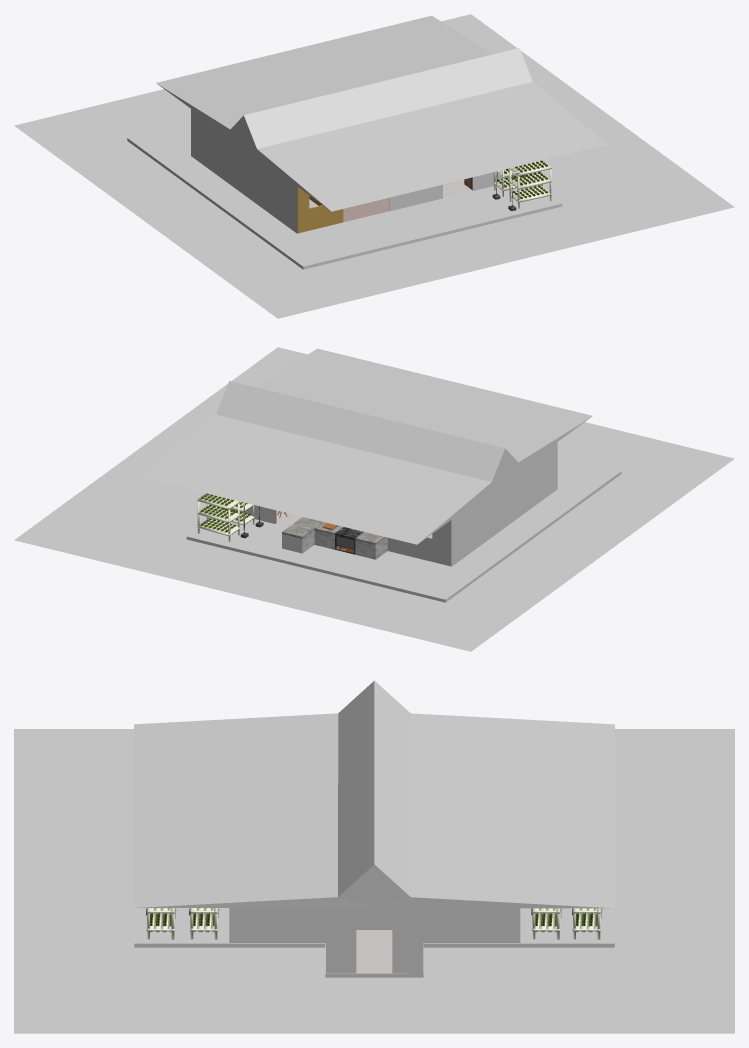
The model's file is Cas4Con.fbx.
The picture shows the model from 3 angles, top to bottom: view 1: azimuth 30°, elevation 25°; view 2: azimuth 150°, elevation 25°; view 3: azimuth 270°, elevation 25°; orthographic projection. The views are drawn at different scales.
Parts seen in each view (by area): view 1: Techo, Suelo exterior, Base casa, ParedExter, Copia.003, Baño, Estudio; view 2: Techo, Suelo exterior, Base casa, ParedExter, Copia.001, Recamara, Cube.081; view 3: Suelo exterior, Techo, ParedExter, Base casa, Floor, Copia, Copia.002, Copia.003, Copia.001, Base entrada.
Part boxes in pixels (x1,y1,x2,y2): Techo: [156, 15, 606, 211]; Suelo exterior: [14, 14, 734, 318]; Base casa: [127, 122, 562, 269]; ParedExter: [191, 109, 517, 233]; Copia.003: [508, 160, 551, 211]; Baño: [297, 187, 343, 233]; Estudio: [343, 198, 388, 222]; Techo: [141, 348, 592, 544]; Suelo exterior: [14, 347, 734, 651]; Base casa: [186, 455, 621, 602]; ParedExter: [231, 442, 557, 566]; Copia.001: [197, 493, 248, 541]; Recamara: [387, 520, 451, 566]; Cube.081: [355, 537, 387, 559]; Suelo exterior: [14, 729, 734, 1033]; Techo: [134, 680, 614, 908]; ParedExter: [229, 908, 520, 973]; Base casa: [134, 908, 614, 947]; Floor: [356, 942, 392, 972]; Copia: [531, 908, 561, 939]; Copia.002: [189, 908, 219, 939]; Copia.003: [146, 908, 176, 939]; Copia.001: [572, 908, 602, 939]; Base entrada: [325, 943, 423, 977].
Size of the model in its own units: 3000 by 528 by 3000.
